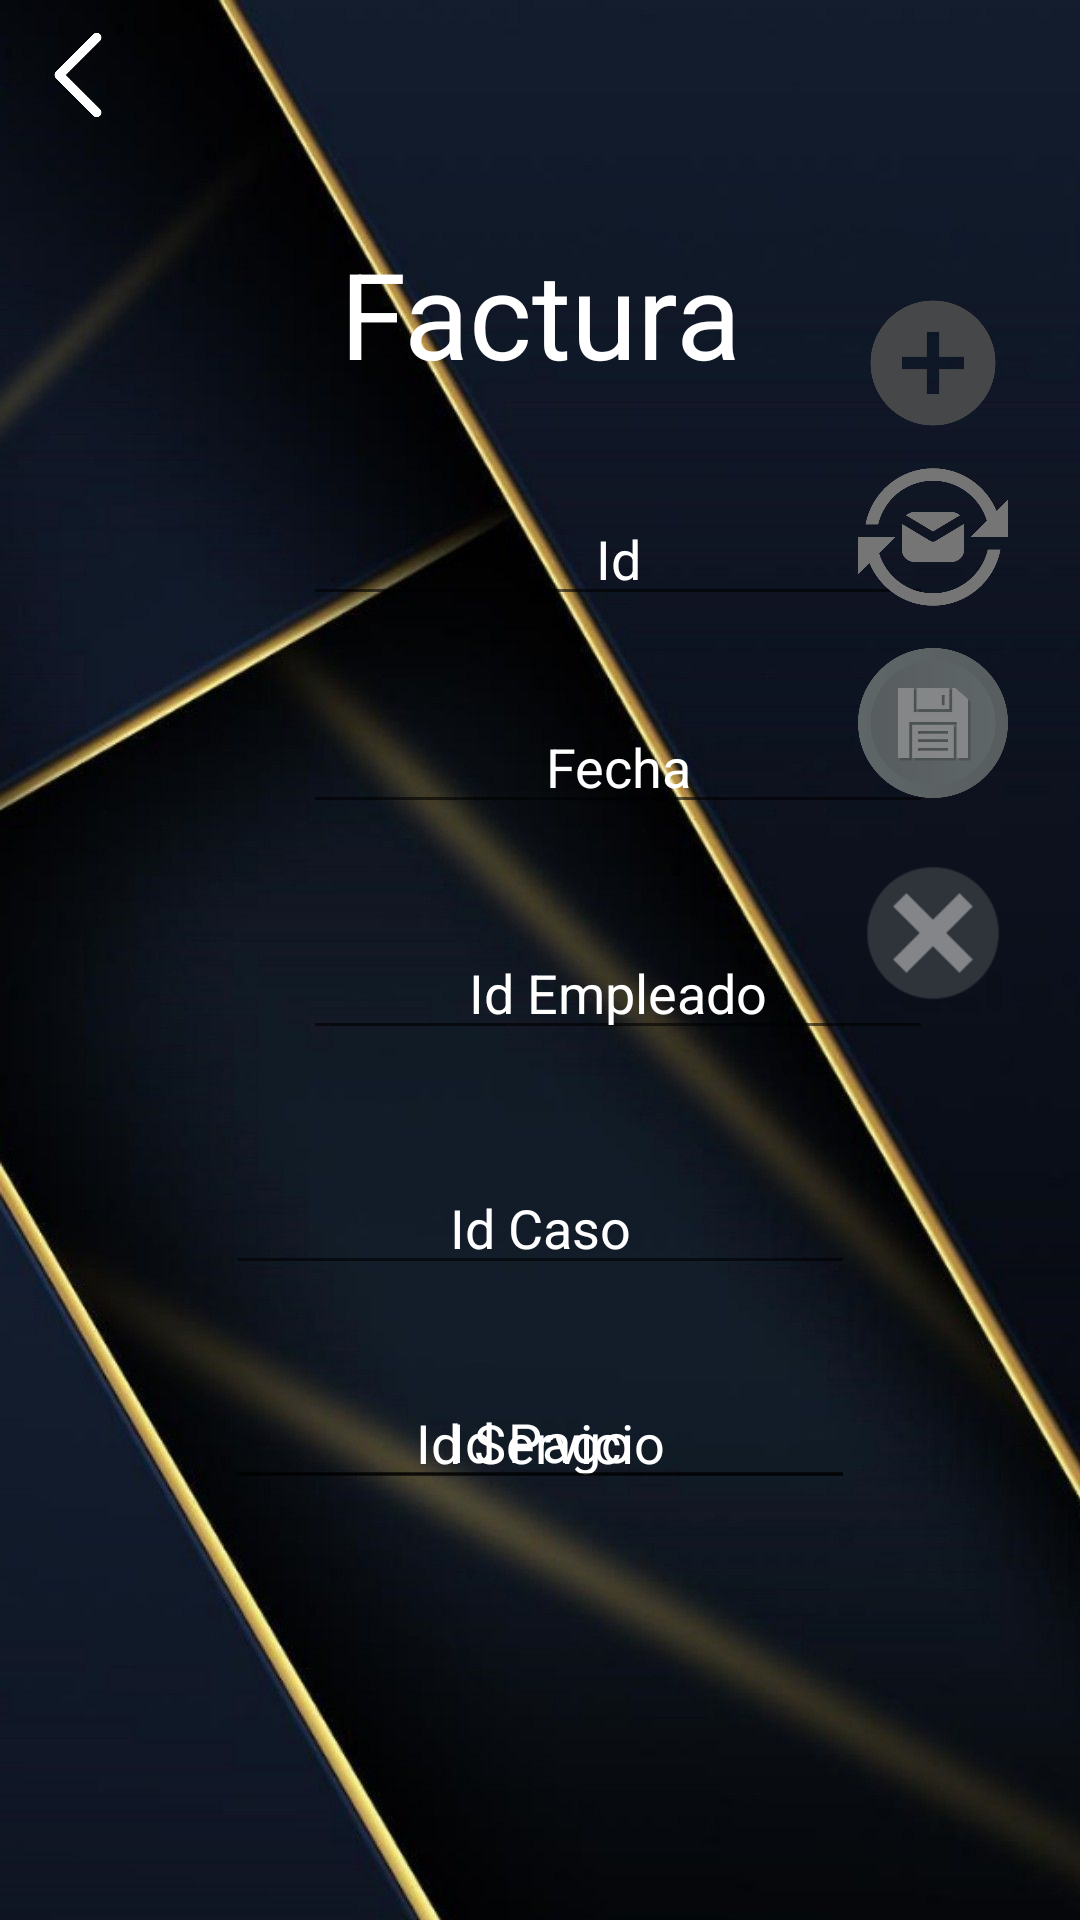

Where to tap for icons on this 1080 × 1920 app screen, as (x=x, y=y):
actualizar: (x=933, y=537)
agregar: (x=933, y=363)
eliminar: (x=933, y=933)
guardar: (x=933, y=723)
